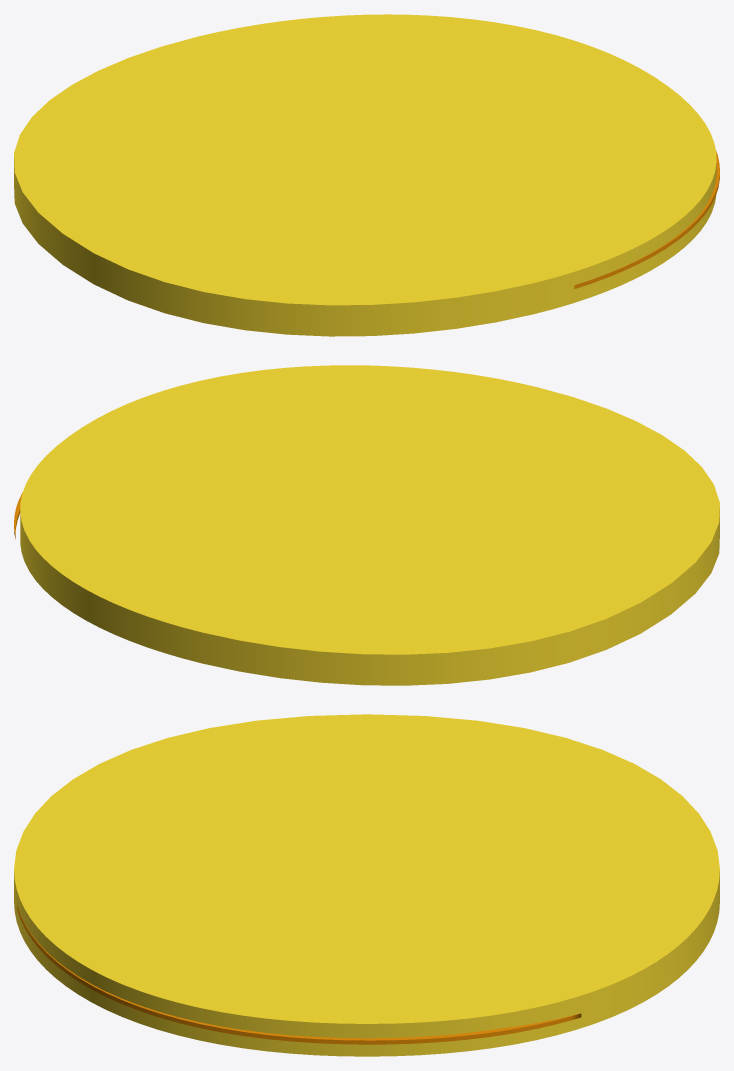
Rendered from emoji_u1f62b.glb.
3 views of the same model, one above another, from view 1: azimuth 30°, elevation 25°; view 2: azimuth 150°, elevation 25°; view 3: azimuth 270°, elevation 25° (orthographic). The views are drawn at different scales.
Parts seen in each view (by area): view 1: emoji_u1f62b; view 2: emoji_u1f62b; view 3: emoji_u1f62b.
Boxes of the visible parts, x1,y1,x2,y2 form: emoji_u1f62b: [14, 14, 719, 336]; emoji_u1f62b: [14, 365, 719, 685]; emoji_u1f62b: [14, 714, 719, 1056].
Size of the model in its own units: 0.0327 by 0.0016 by 0.0313.
